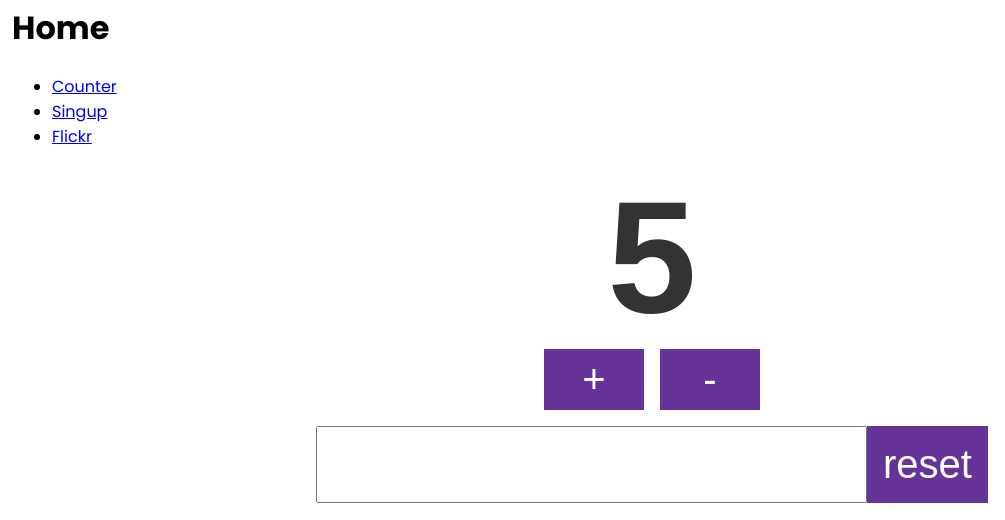
Counter › increments the count
This screenshot has width=1005, height=520.
Expected: the text with test id "count" reads "5", [608, 167, 697, 346]
Click the button with test id "increment-button".
click(594, 380)  # box [544, 349, 644, 410]
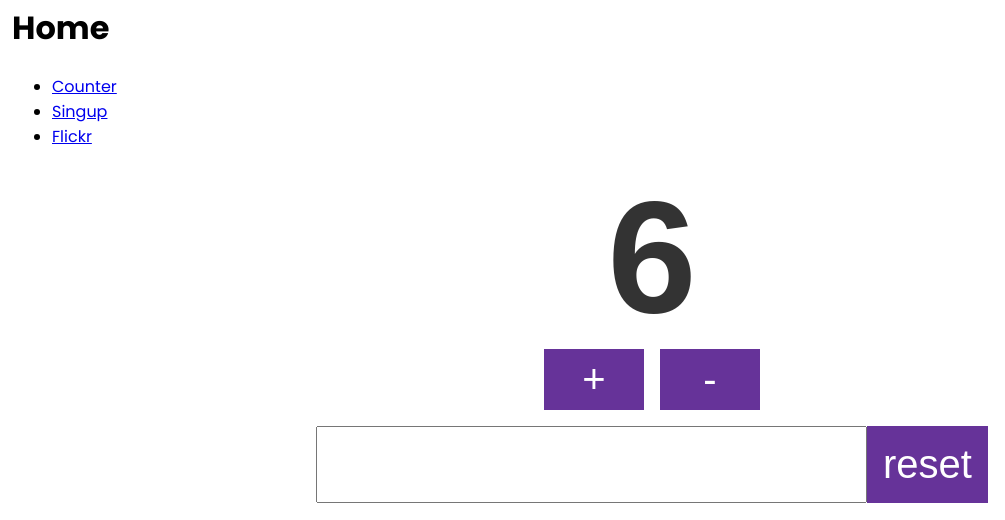
Expected: the text with test id "count" reads "6", [608, 167, 697, 346]
